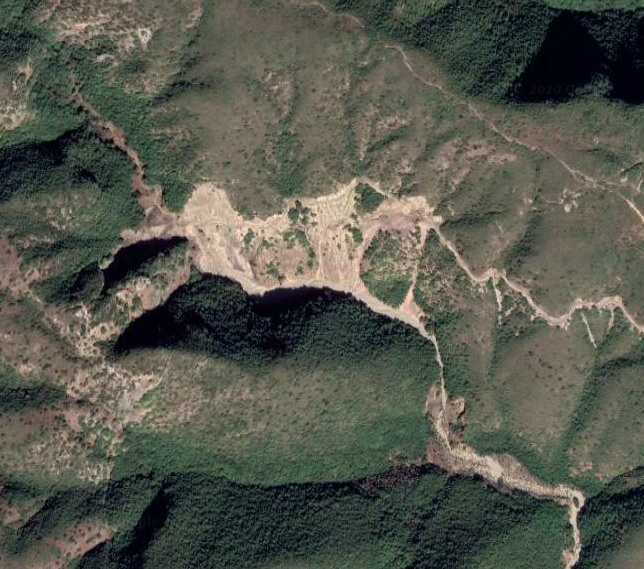slope: (95, 171, 446, 337)
